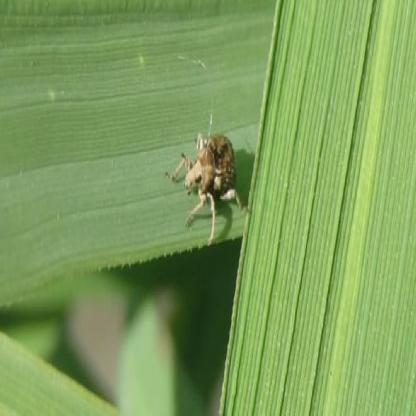rice-bug: (177, 118, 242, 232)
